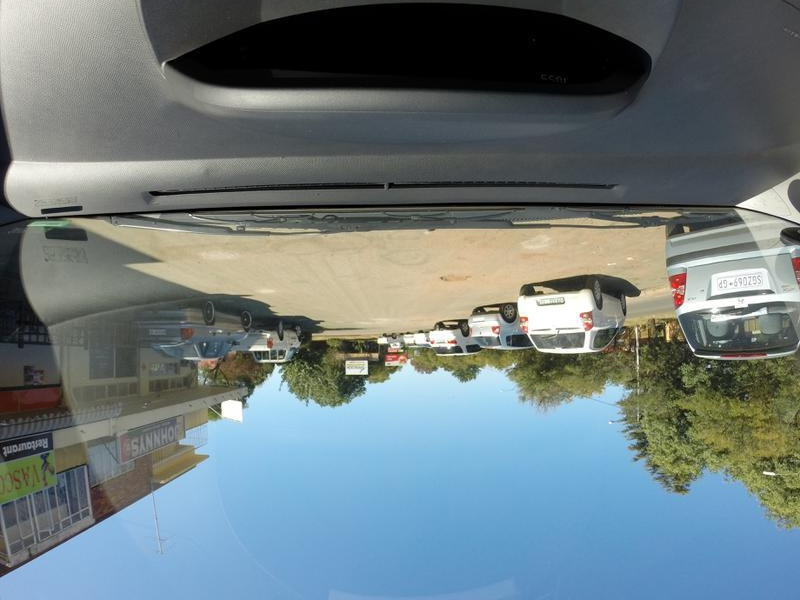pothole: (436, 270, 474, 287)
